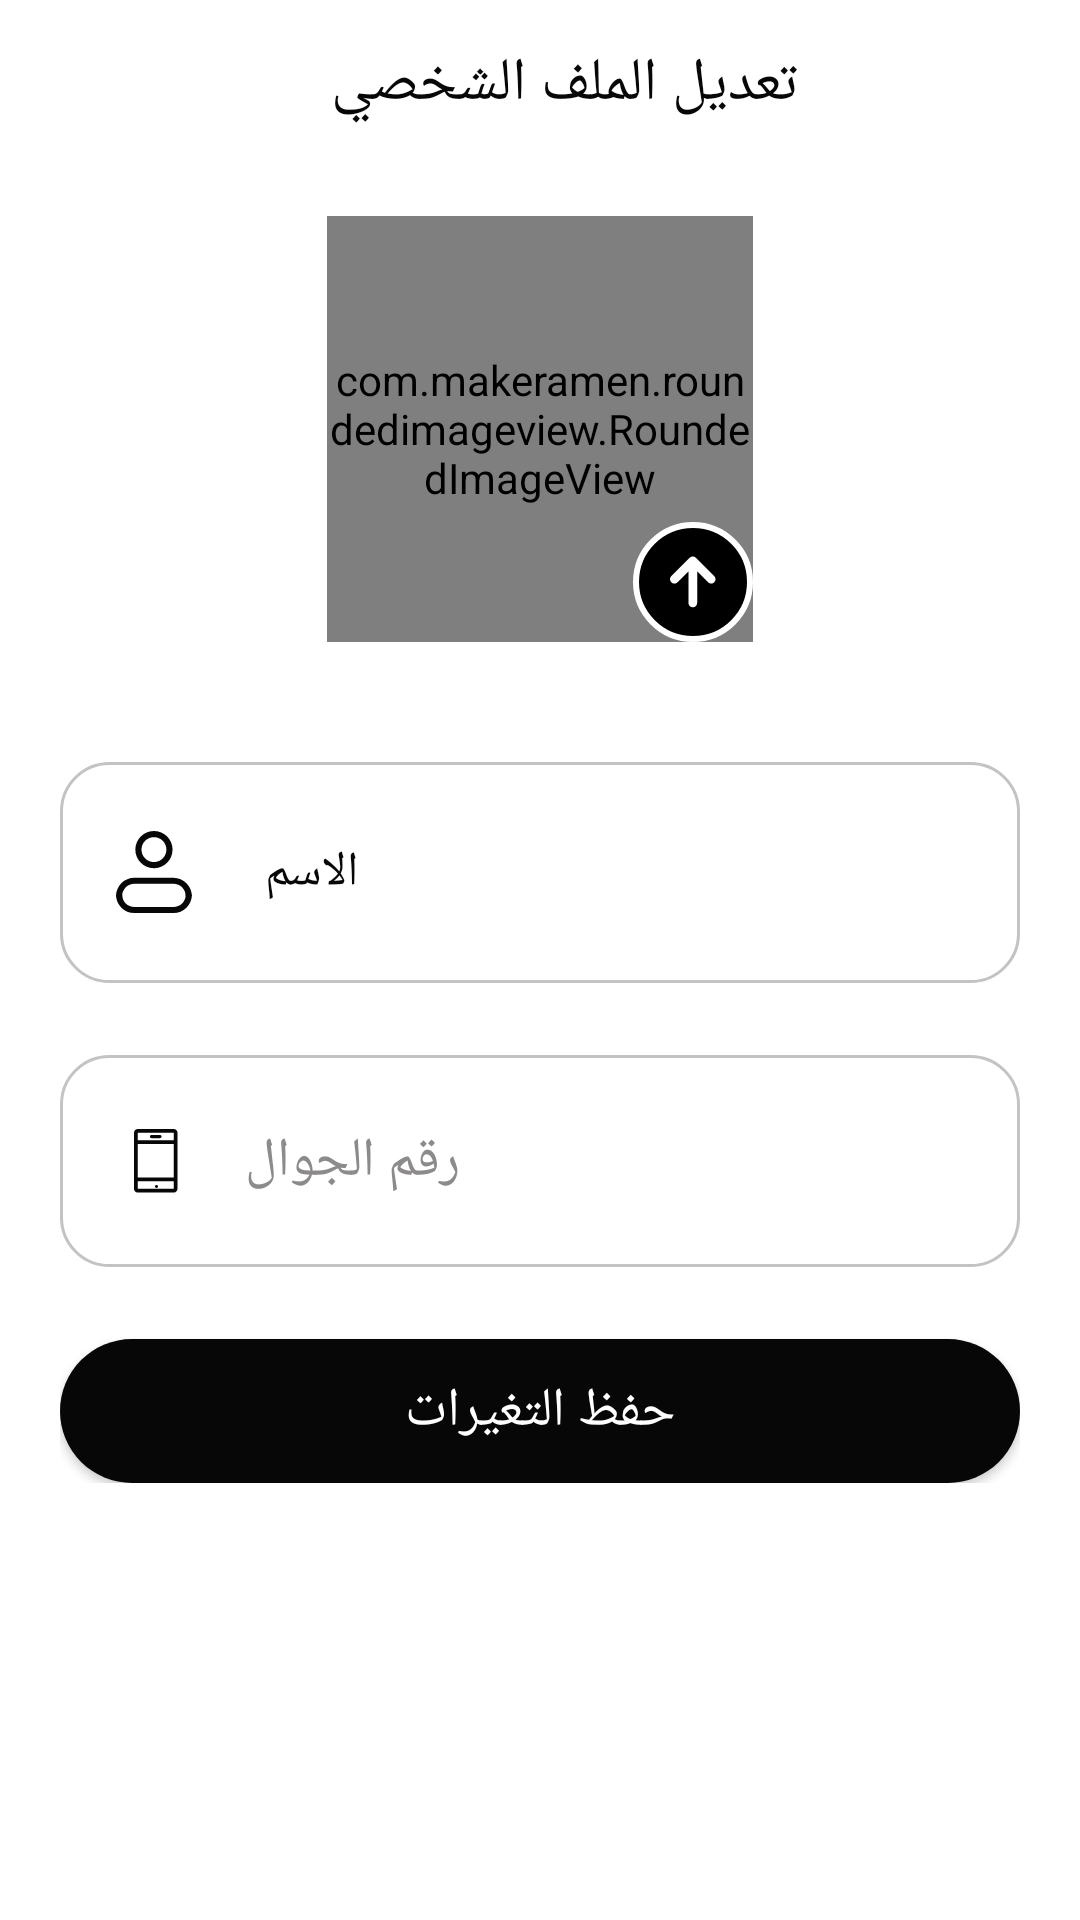

Screen size 1080px x 1920px. Icon name, then its center in pixels as point (x, y):
phone: point (156, 1161)
profile: point (154, 872)
upload: point (693, 582)
